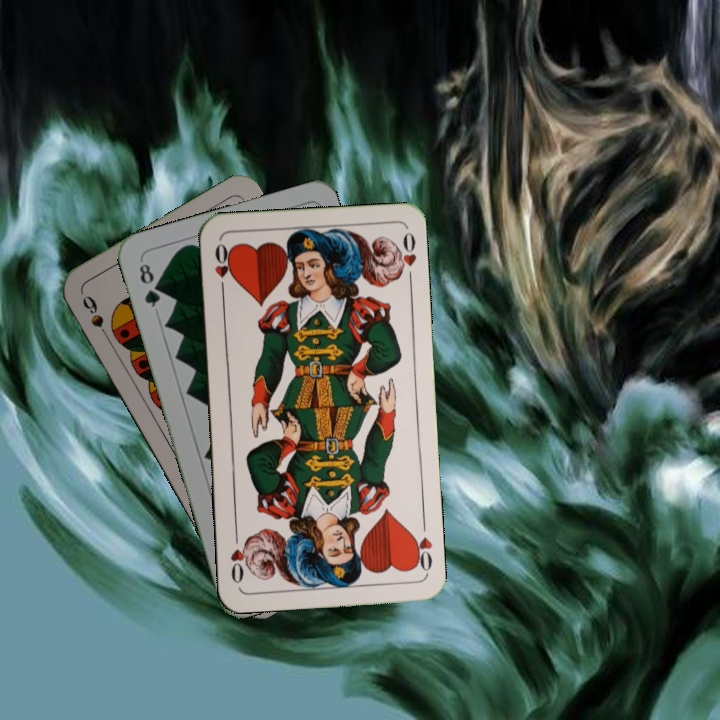G8: (135, 259, 163, 310)
HO: (408, 517, 435, 576), (211, 239, 234, 297)
S9: (78, 291, 113, 344)
